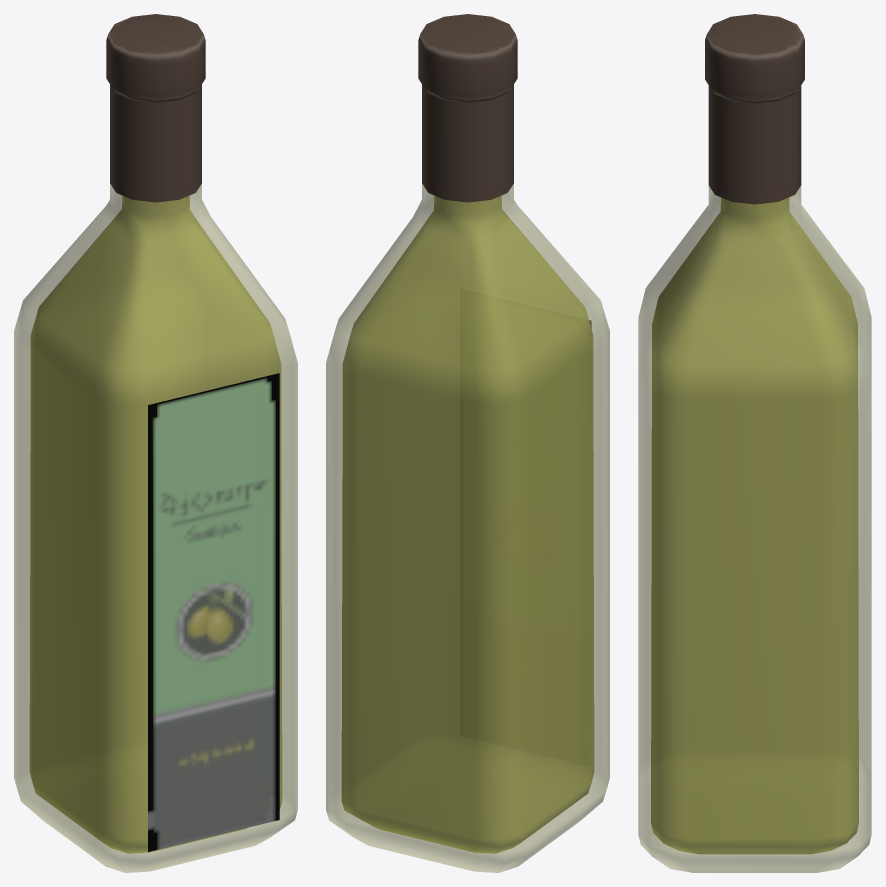
File: pi_oliveoil03.gltf
The picture shows the model from 3 angles, left to right: view 1: azimuth 30°, elevation 25°; view 2: azimuth 150°, elevation 25°; view 3: azimuth 270°, elevation 25°; orthographic projection.
Parts seen in each view (by area): view 1: pi_oliveoil03_bottle01_glass_mesh_shape:pi_oliveoil03_glass, pi_oliveoil03_inside_mesh_shape:pi_oliveoil03_body, pi_oliveoil03_bottle01_label_mesh_shape:pi_oliveoil03_label, pi_oliveoil03_bottle01_lidlabel_mesh_shape:pi_oliveoil03_lid, pi_oliveoil03_bottle01_lid_mesh_shape:pi_oliveoil03_lid; view 2: pi_oliveoil03_bottle01_glass_mesh_shape:pi_oliveoil03_glass, pi_oliveoil03_inside_mesh_shape:pi_oliveoil03_body, pi_oliveoil03_bottle01_lidlabel_mesh_shape:pi_oliveoil03_lid, pi_oliveoil03_bottle01_lid_mesh_shape:pi_oliveoil03_lid; view 3: pi_oliveoil03_bottle01_glass_mesh_shape:pi_oliveoil03_glass, pi_oliveoil03_inside_mesh_shape:pi_oliveoil03_body, pi_oliveoil03_bottle01_lidlabel_mesh_shape:pi_oliveoil03_lid, pi_oliveoil03_bottle01_lid_mesh_shape:pi_oliveoil03_lid.
Boxes of the visible parts, x1,y1,x2,y2 form: pi_oliveoil03_bottle01_glass_mesh_shape:pi_oliveoil03_glass: (14, 184, 297, 872); pi_oliveoil03_inside_mesh_shape:pi_oliveoil03_body: (29, 195, 282, 853); pi_oliveoil03_bottle01_label_mesh_shape:pi_oliveoil03_label: (148, 373, 279, 851); pi_oliveoil03_bottle01_lidlabel_mesh_shape:pi_oliveoil03_lid: (110, 85, 201, 202); pi_oliveoil03_bottle01_lid_mesh_shape:pi_oliveoil03_lid: (106, 14, 205, 102); pi_oliveoil03_bottle01_glass_mesh_shape:pi_oliveoil03_glass: (326, 184, 609, 872); pi_oliveoil03_inside_mesh_shape:pi_oliveoil03_body: (341, 195, 594, 853); pi_oliveoil03_bottle01_lidlabel_mesh_shape:pi_oliveoil03_lid: (422, 85, 513, 202); pi_oliveoil03_bottle01_lid_mesh_shape:pi_oliveoil03_lid: (418, 14, 517, 102); pi_oliveoil03_bottle01_glass_mesh_shape:pi_oliveoil03_glass: (638, 186, 871, 872); pi_oliveoil03_inside_mesh_shape:pi_oliveoil03_body: (651, 197, 858, 854); pi_oliveoil03_bottle01_lidlabel_mesh_shape:pi_oliveoil03_lid: (708, 86, 801, 204); pi_oliveoil03_bottle01_lid_mesh_shape:pi_oliveoil03_lid: (705, 14, 804, 103).
Bounding box in the file's own units: 0.0583 × 0.2202 × 0.0583.
Materials: 4 (4 with a texture image).
